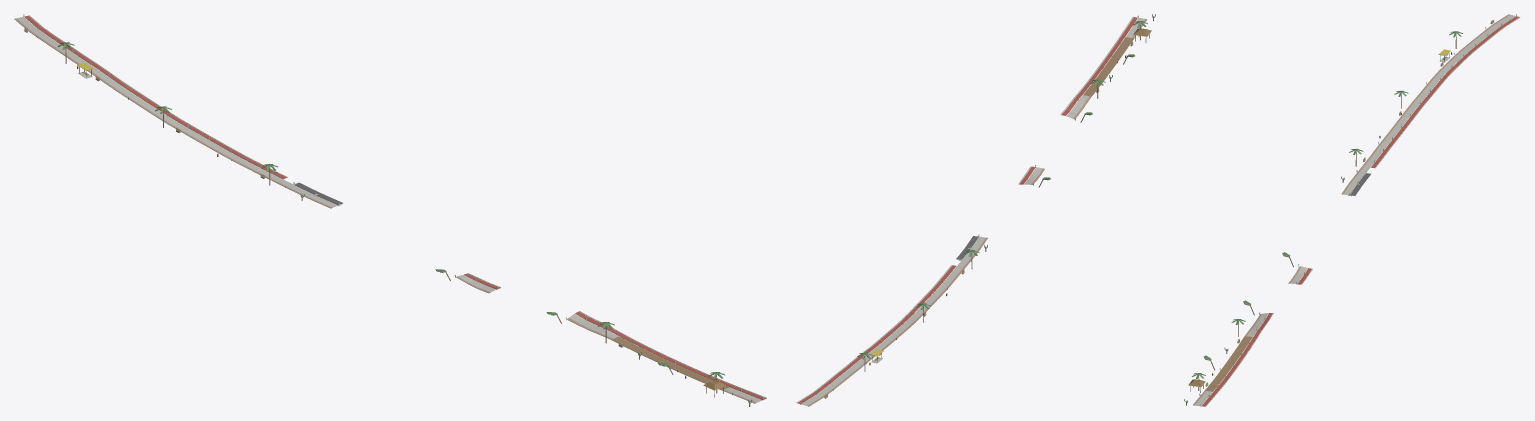
Rendered from nw_mk_boca.glb.
3 views of the same model, side by side, from view 1: azimuth 30°, elevation 25°; view 2: azimuth 150°, elevation 25°; view 3: azimuth 330°, elevation 25° (orthographic). The views are drawn at different scales.
Parts seen in each view (by area): view 1: nw_mk_boca_lod0; view 2: nw_mk_boca_lod0; view 3: nw_mk_boca_lod0.
Part boxes in pixels (left/top/right/bottom): nw_mk_boca_lod0: left=14, top=14, right=766, bottom=406; nw_mk_boca_lod0: left=796, top=14, right=1155, bottom=406; nw_mk_boca_lod0: left=1184, top=14, right=1520, bottom=406.
Size of what is drawn, in the model's own units: 60.17 by 13.72 by 283.
